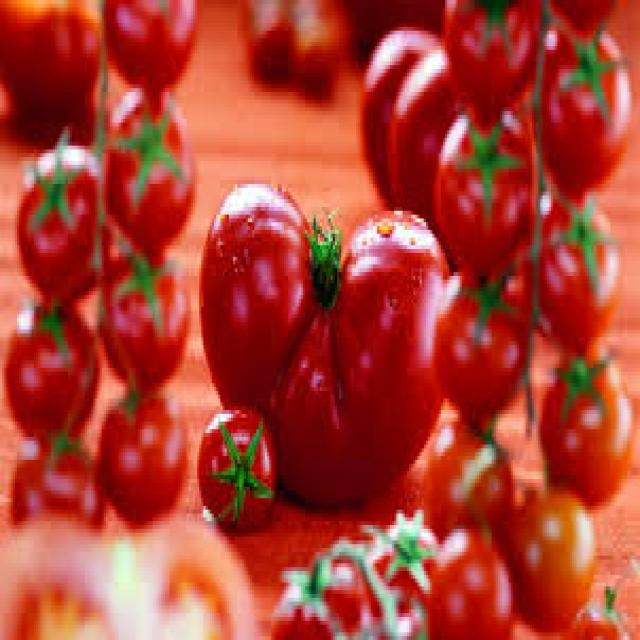Tomato: (197, 185, 443, 536), (1, 498, 251, 640), (343, 6, 472, 194), (537, 330, 637, 514), (107, 83, 203, 265), (537, 21, 635, 198), (436, 98, 539, 259), (0, 281, 107, 429), (96, 246, 196, 397), (436, 262, 530, 420), (15, 139, 101, 285), (438, 0, 540, 123), (421, 408, 519, 534), (510, 479, 594, 623), (101, 382, 188, 516), (191, 417, 291, 528), (537, 190, 618, 327), (431, 521, 519, 640), (269, 532, 354, 640), (369, 516, 442, 640), (21, 417, 96, 531), (104, 0, 200, 81)
